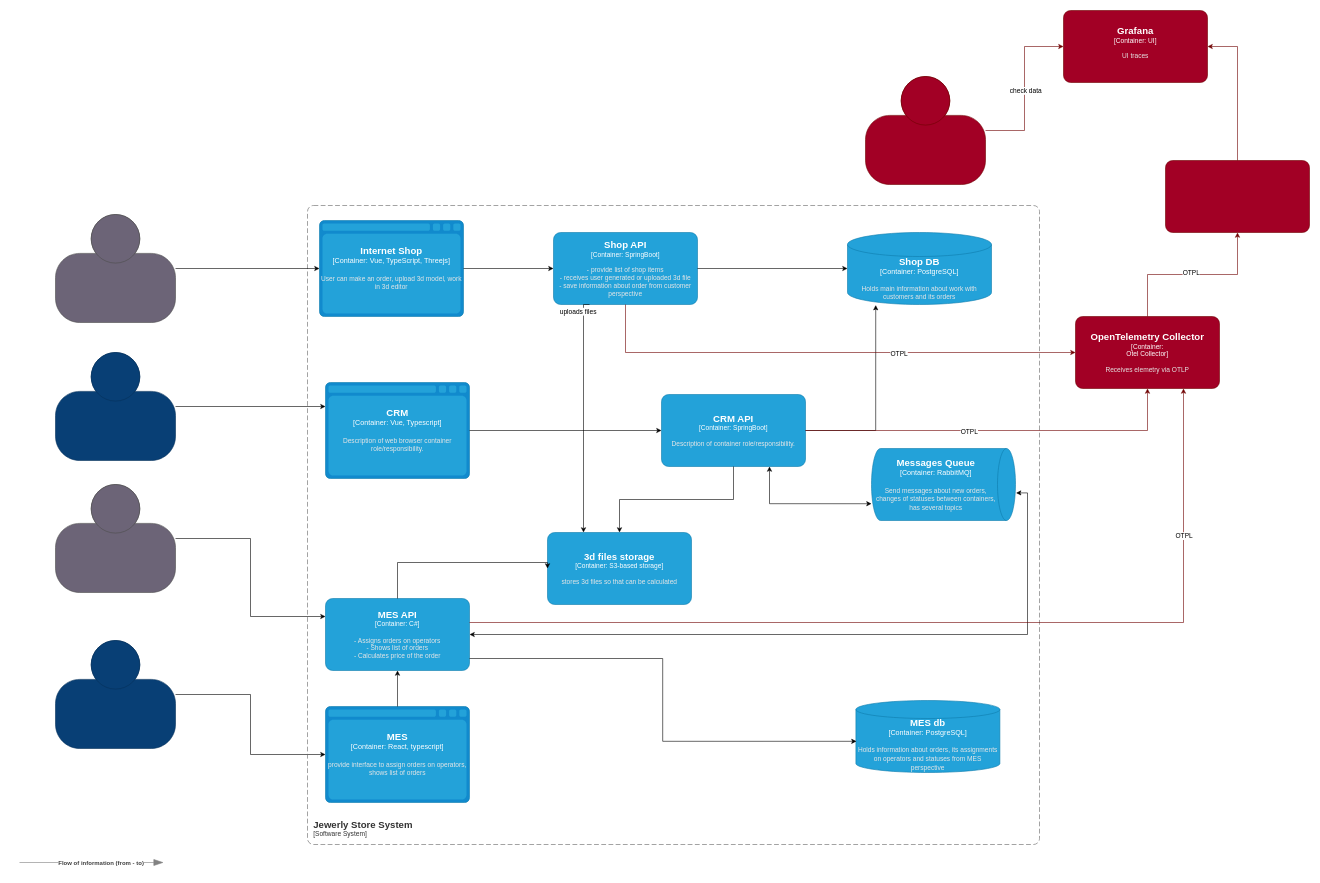
Some shapes in this 1320 by 883 pixel diagram are drawn without their labels. The centre of each missing label's shape, as x and y in pixels:
"API user [Person] Description of external person." goes at [115,538].
"Customer [Person] Description of external person." goes at [115,268].
"Grafana Tempo [Container: Grafana Tempo] Holds traces data" goes at [1237,196].
"Operator [Person] Takes order in work, manufactures jewerly" goes at [115,694].
"Seller [Person] Operates with order, confirms manufacturing for the user" goes at [115,406].
"Support [Person] Check OTPL data" goes at [925,130].
